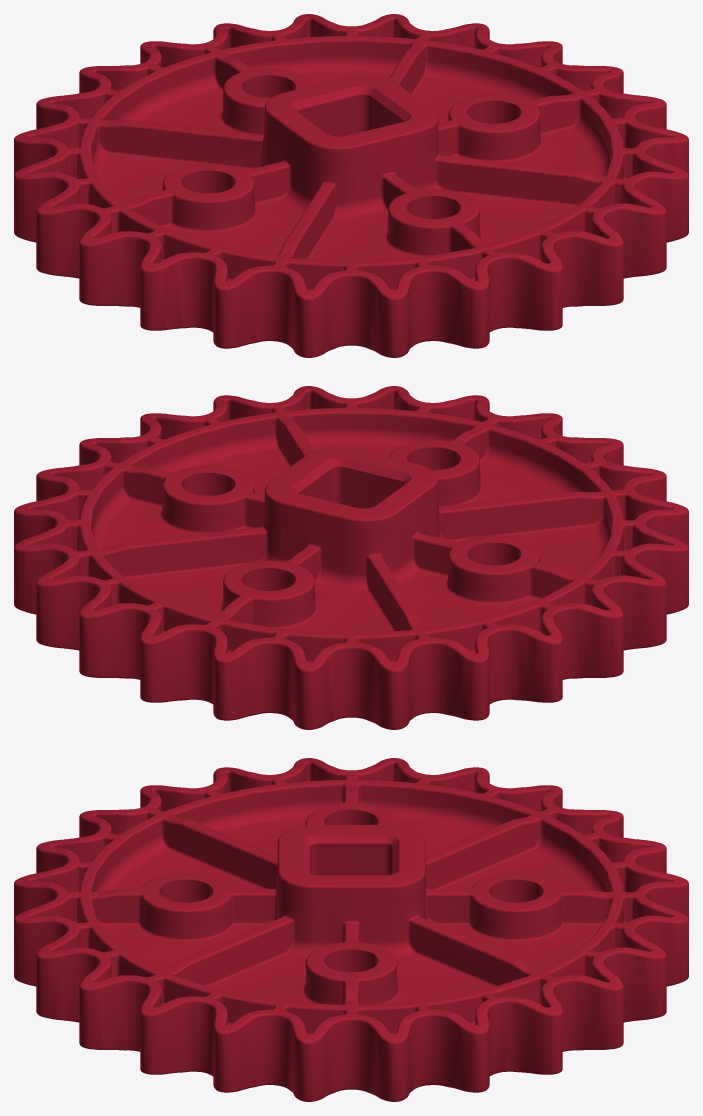
The model's file is 24t-sprocket-6p.glb.
3 renders of one model, top to bottom at view 1: azimuth 30°, elevation 25°; view 2: azimuth 150°, elevation 25°; view 3: azimuth 270°, elevation 25°, orthographic.
Visible parts, largest first — view 1: 276-8030-003 Rev2; view 2: 276-8030-003 Rev2; view 3: 276-8030-003 Rev2.
Part boxes in pixels (left/top/right/bottom): 276-8030-003 Rev2: left=14, top=14, right=688, bottom=357; 276-8030-003 Rev2: left=14, top=386, right=688, bottom=729; 276-8030-003 Rev2: left=14, top=758, right=688, bottom=1101.
Bounding box in the file's own units: 0.052 × 0.0127 × 0.052.
